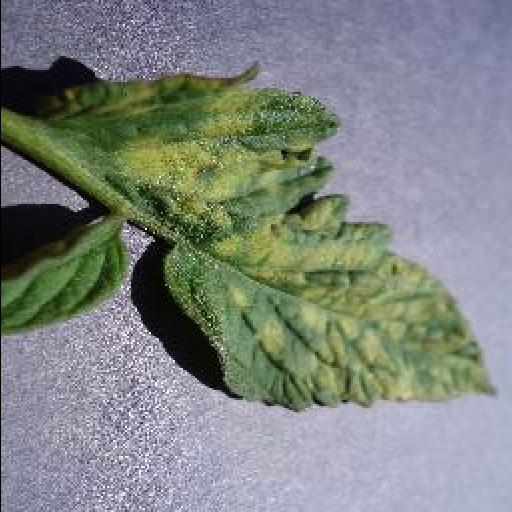disease_tomato: (50, 70, 496, 411)
